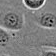cell: (31, 36, 44, 47), (24, 17, 38, 27), (2, 20, 14, 31), (4, 36, 16, 47), (26, 5, 38, 15), (41, 2, 50, 14), (1, 3, 11, 13), (39, 22, 50, 31), (47, 36, 56, 47), (19, 44, 27, 54)
